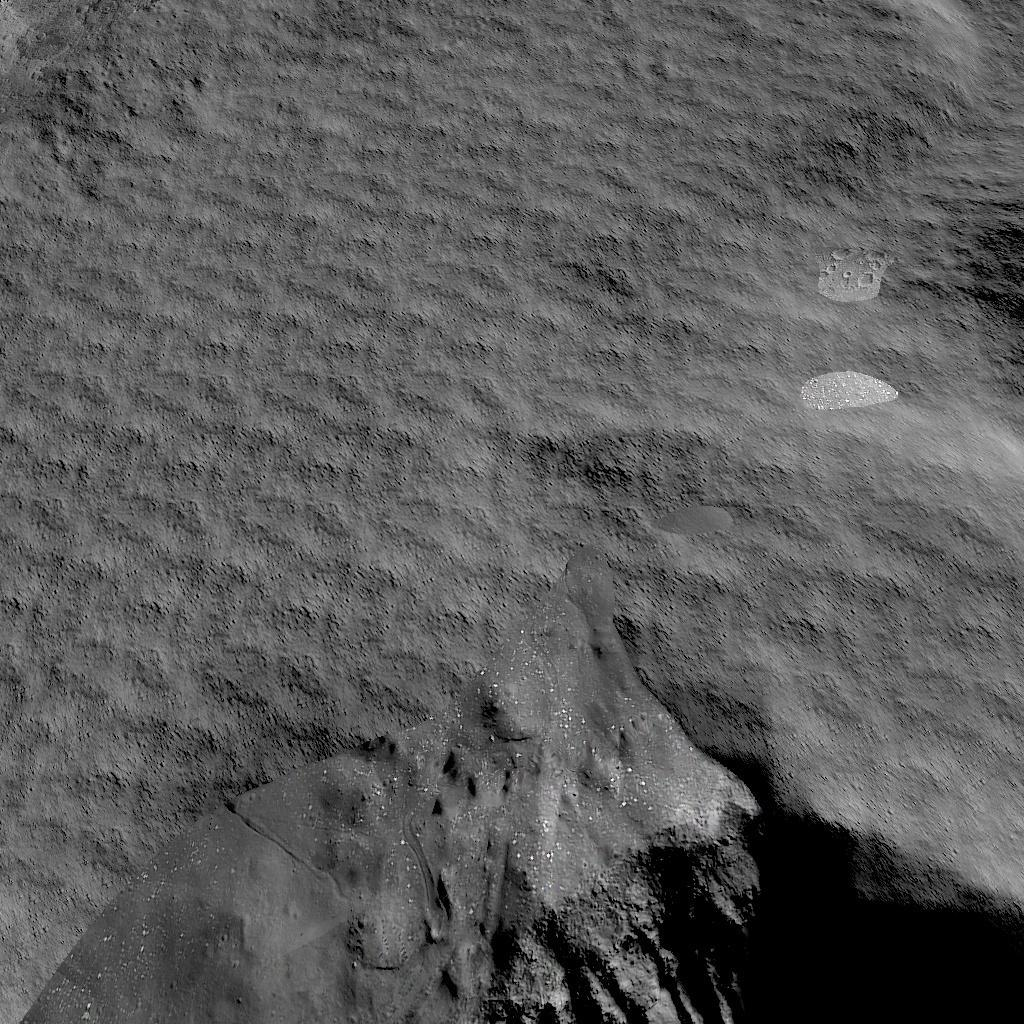Crater: (21, 680, 1024, 1024), (943, 188, 1024, 342)
Plan surface: (0, 0, 930, 668)
